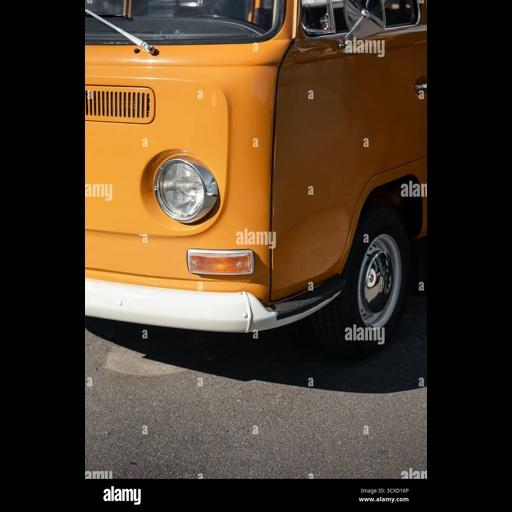van: (85, 0, 425, 355)
